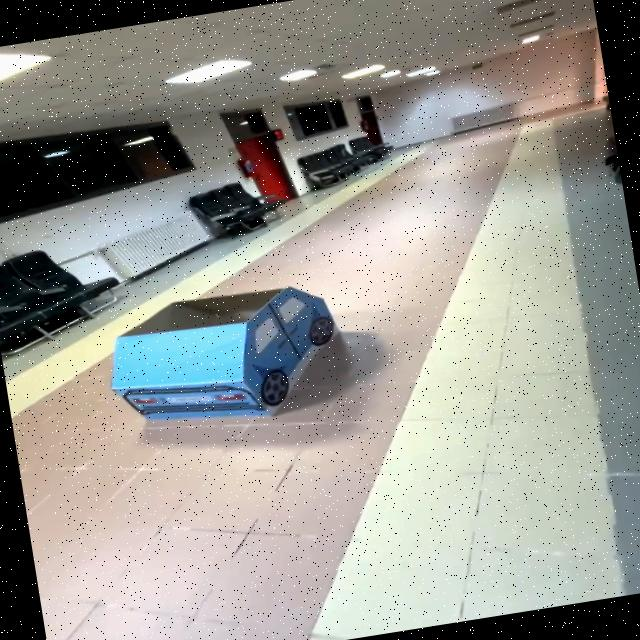blue_car: (86, 268, 356, 457)
